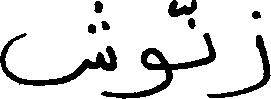X: (0, 0, 117, 98), (141, 0, 173, 98), (236, 6, 270, 98), (203, 28, 214, 98)
